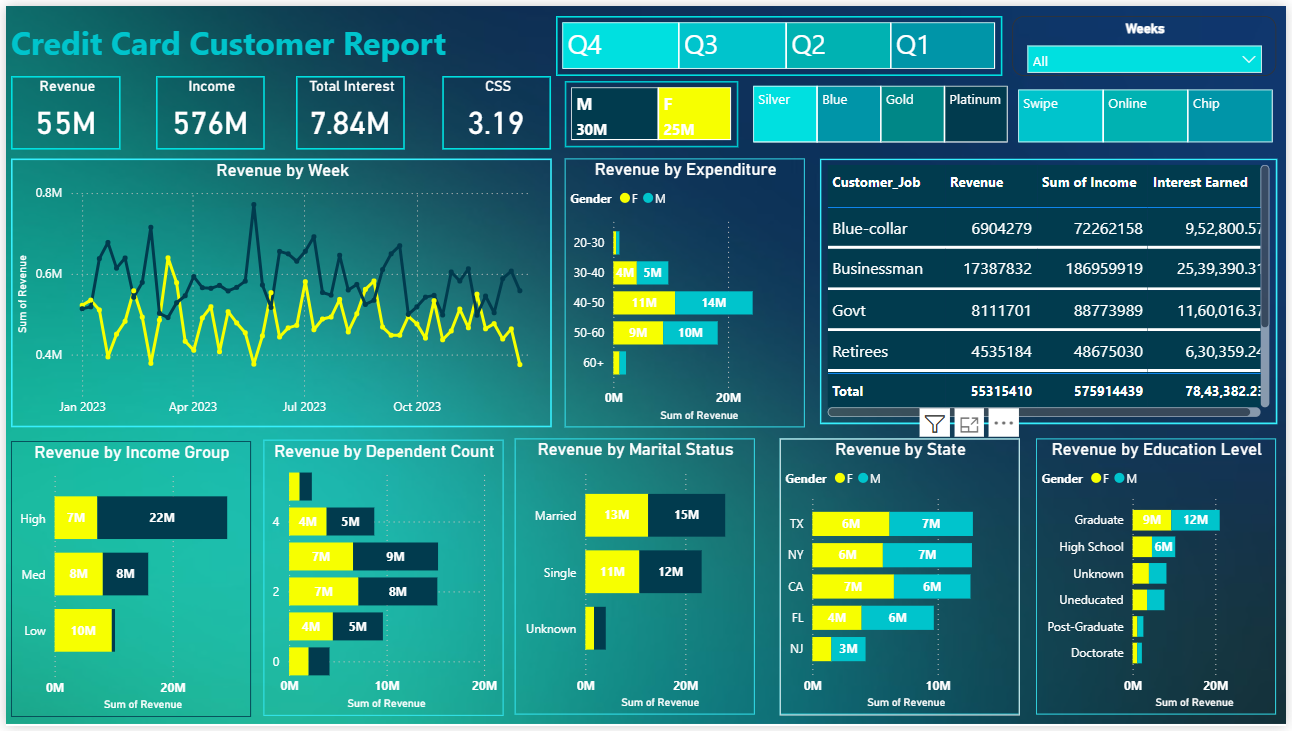

What the dashboard file says about the page in this screenshot:
{"tool":"powerbi","page":{"name":"CC Customer","canvas":[1280,720],"ordinal":1},"visuals":[{"type":"textbox","box":[0,9.7,491,60.3],"z":0},{"type":"barChart","title":"Revenue by Income Group","fields":{"Category":["customer.Income Group"],"Y":["Sum(credit_card.Revenue)"],"Series":["customer.Gender"]},"box":[5.5,435,240.1,275.8],"z":1000},{"type":"tableEx","fields":{"Values":["customer.Customer_Job","Sum(credit_card.Revenue)","Sum(customer.Income)","Sum(credit_card.Interest_Earned)"]},"box":[813.1,152,457.2,265.4],"z":2000},{"type":"card","title":"Revenue","fields":{"Values":["Sum(credit_card.Revenue)"]},"box":[4.8,70,109.8,73.6],"z":3000},{"type":"card","title":"Income","fields":{"Values":["Sum(customer.Income)"]},"box":[149.6,70,108.6,73.6],"z":4000},{"type":"card","title":"Total Interest  ","fields":{"Values":["Sum(credit_card.Interest_Earned)"]},"box":[289.5,70,108.6,73.6],"z":5000},{"type":"card","title":"CSS","fields":{"Values":["Avg(customer.Cust_Satisfaction_Score)"]},"box":[436.7,70,108.6,73.6],"z":6000},{"type":"slicer","title":"Weeks","fields":{"Values":["credit_card.Week_Start_date"]},"box":[1006.2,9.7,264.2,60.3],"z":7000},{"type":"treemap","fields":{"Group":["credit_card.Qtr"],"Values":["Avg(credit_card.Client_Num)"]},"box":[550.1,9.7,446.4,60.3],"z":8000},{"type":"treemap","fields":{"Group":["credit_card.Card_Category"],"Values":["Avg(credit_card.Client_Num)"]},"box":[742,74.8,264.2,66.4],"z":9000},{"type":"lineChart","title":"Revenue by Week","fields":{"Category":["credit_card.Week_Start_date.Variation.Date Hierarchy.Year","credit_card.Week_Start_date.Variation.Date Hierarchy.Month","credit_card.Week_Start_date.Variation.Date Hierarchy.Day"],"Y":["Sum(credit_card.Revenue)"],"Series":["customer.Gender"]},"box":[4.8,152,540.5,269],"z":10000},{"type":"treemap","fields":{"Group":["customer.Gender"],"Values":["Sum(credit_card.Revenue)"]},"box":[558.6,74.8,173.7,66.4],"z":11000},{"type":"barChart","title":"Revenue by Dependent Count","fields":{"Category":["customer.Dependent_Count"],"Y":["Sum(credit_card.Revenue)"],"Series":["customer.Gender"]},"box":[258,433.6,240,275.8],"z":12000},{"type":"barChart","title":"Revenue by Marital Status","fields":{"Category":["customer.Marital_Status"],"Y":["Sum(credit_card.Revenue)"],"Series":["customer.Gender"]},"box":[509.1,433.1,240,276.3],"z":13000},{"type":"barChart","title":"Revenue by State","fields":{"Category":["customer.state_cd"],"Y":["Sum(credit_card.Revenue)"],"Series":["customer.Gender"]},"box":[773.3,433.1,240,276.3],"z":14000},{"type":"barChart","title":"Revenue by Education Level","fields":{"Category":["customer.Education_Level"],"Y":["Sum(credit_card.Revenue)"],"Series":["customer.Gender"]},"box":[1030.3,433.1,240.1,276.3],"z":15000},{"type":"barChart","title":"Revenue by Expenditure","fields":{"Category":["customer.Age Group"],"Y":["Sum(credit_card.Revenue)"],"Series":["customer.Gender"]},"box":[558.6,152,240.1,269],"z":16000},{"type":"treemap","fields":{"Group":["credit_card.Use Chip"],"Values":["Avg(credit_card.Client_Num)"]},"box":[1007.4,78.4,264.2,62.7],"z":17000}]}

Visuals, with their boxes in screenshot pixels (x1, y1, x2, y2), scaled from the page's 1280x720 canvas onto the 1292x731 screenshot:
textbox: box(0, 10, 496, 71)
"Revenue by Income Group" barChart: box(6, 442, 248, 722)
tableEx - customer.Customer_Job x Sum(credit_card.Revenue): box(821, 154, 1282, 424)
"Revenue" card: box(5, 71, 116, 146)
"Income" card: box(151, 71, 261, 146)
"Total Interest  " card: box(292, 71, 402, 146)
"CSS" card: box(441, 71, 550, 146)
"Weeks" slicer: box(1016, 10, 1282, 71)
treemap - credit_card.Qtr x Avg(credit_card.Client_Num): box(555, 10, 1006, 71)
treemap - credit_card.Card_Category x Avg(credit_card.Client_Num): box(749, 76, 1016, 143)
"Revenue by Week" lineChart: box(5, 154, 550, 427)
treemap - customer.Gender x Sum(credit_card.Revenue): box(564, 76, 739, 143)
"Revenue by Dependent Count" barChart: box(260, 440, 503, 720)
"Revenue by Marital Status" barChart: box(514, 440, 756, 720)
"Revenue by State" barChart: box(781, 440, 1023, 720)
"Revenue by Education Level" barChart: box(1040, 440, 1282, 720)
"Revenue by Expenditure" barChart: box(564, 154, 806, 427)
treemap - credit_card.Use Chip x Avg(credit_card.Client_Num): box(1017, 80, 1284, 143)
